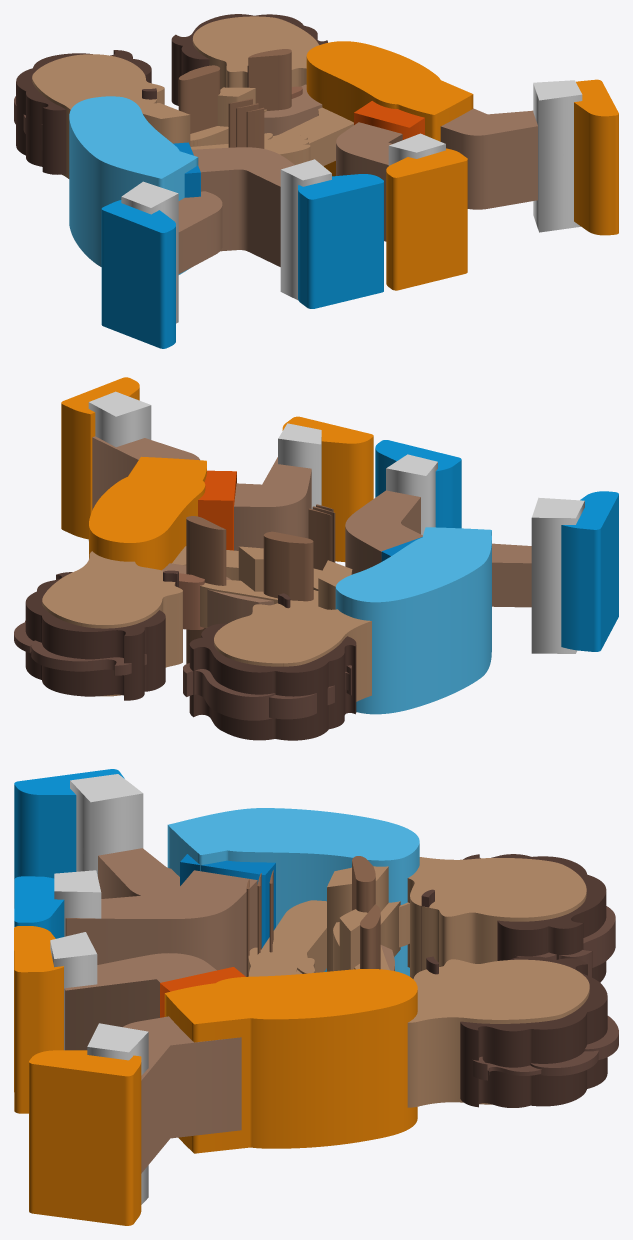
Rendered from emoji_u1f93c_1f3fd.glb.
3 renders of one model, top to bottom at view 1: azimuth 30°, elevation 25°; view 2: azimuth 150°, elevation 25°; view 3: azimuth 270°, elevation 25°, orthographic. The views are drawn at different scales.
Visible parts, largest first — view 1: emoji_u1f93c_1f3fd; view 2: emoji_u1f93c_1f3fd; view 3: emoji_u1f93c_1f3fd.
Boxes of the visible parts, bbox=[...] form: emoji_u1f93c_1f3fd: bbox=[14, 14, 618, 348]; emoji_u1f93c_1f3fd: bbox=[14, 377, 618, 740]; emoji_u1f93c_1f3fd: bbox=[14, 769, 618, 1225].
Size of the model in its own units: 0.0328 by 0.0092 by 0.0271.
